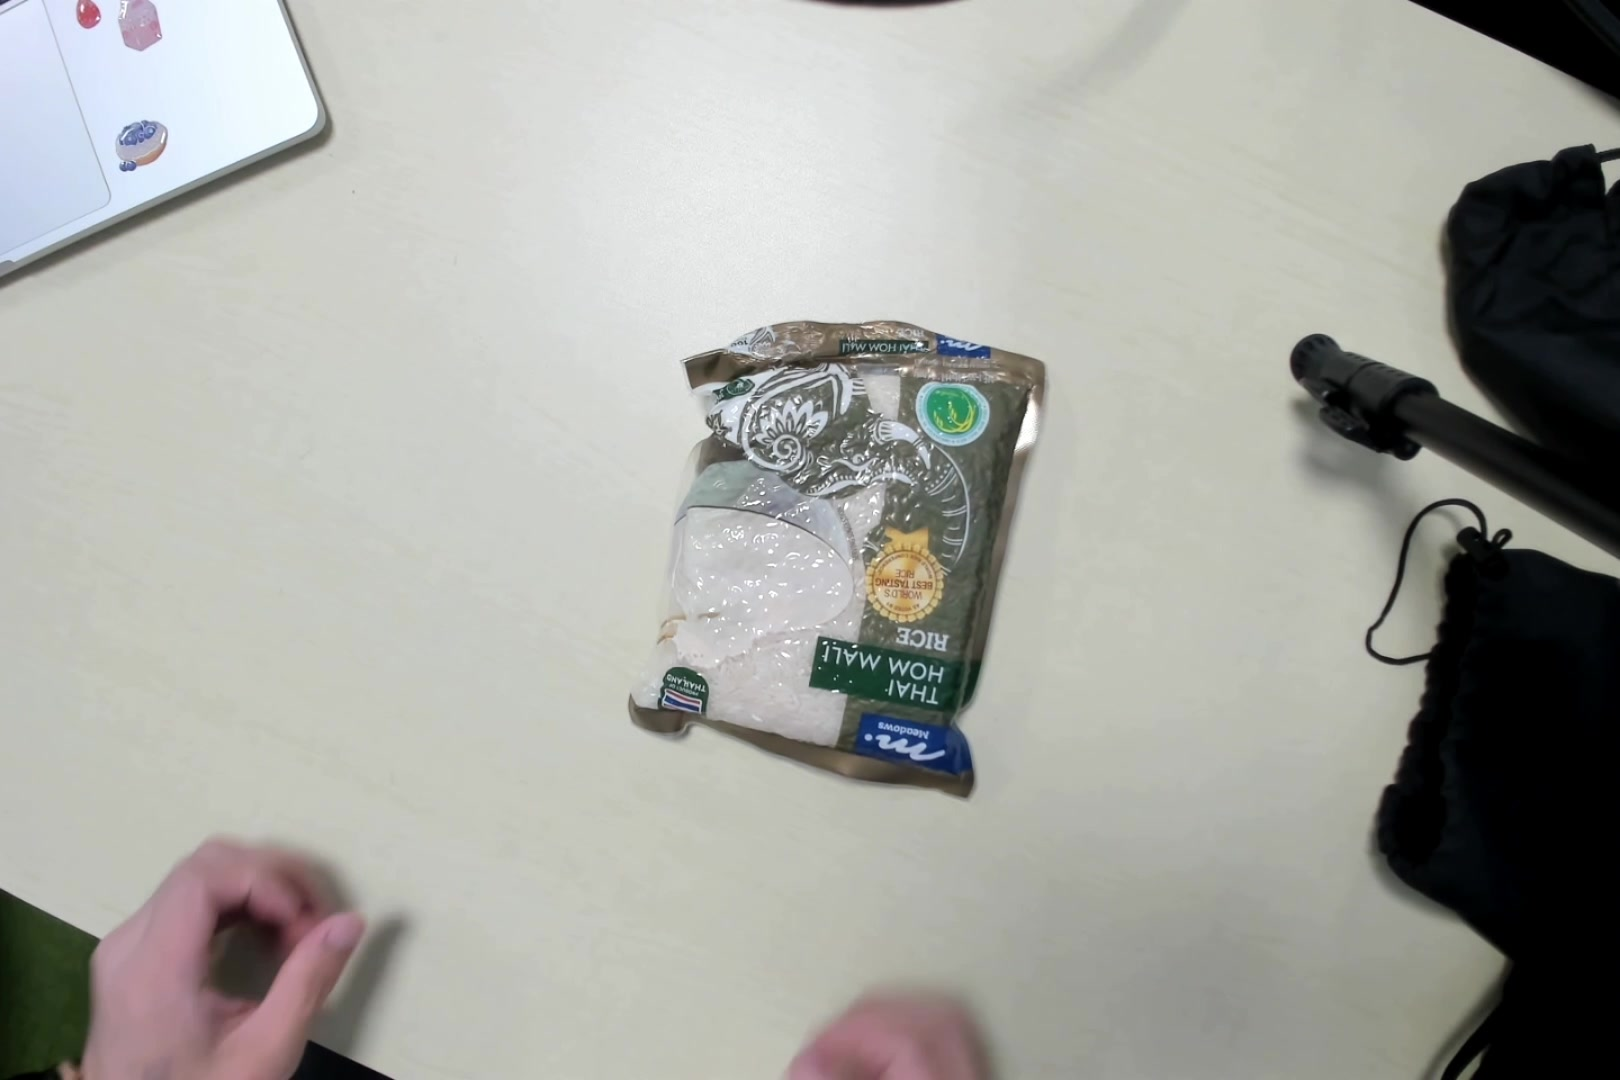Rice(White)_500-599g_NonHalal_NonHealthy: (633, 315, 1046, 794)
